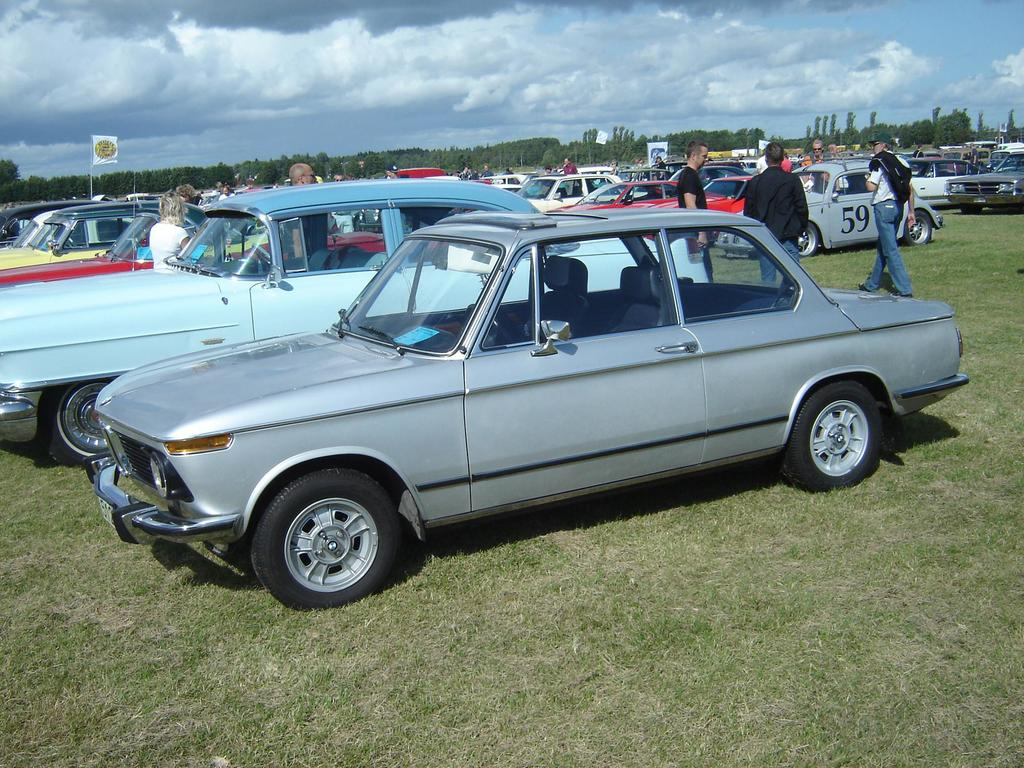Car: (0, 144, 1023, 609)
